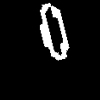chain: (40, 3, 68, 59)
